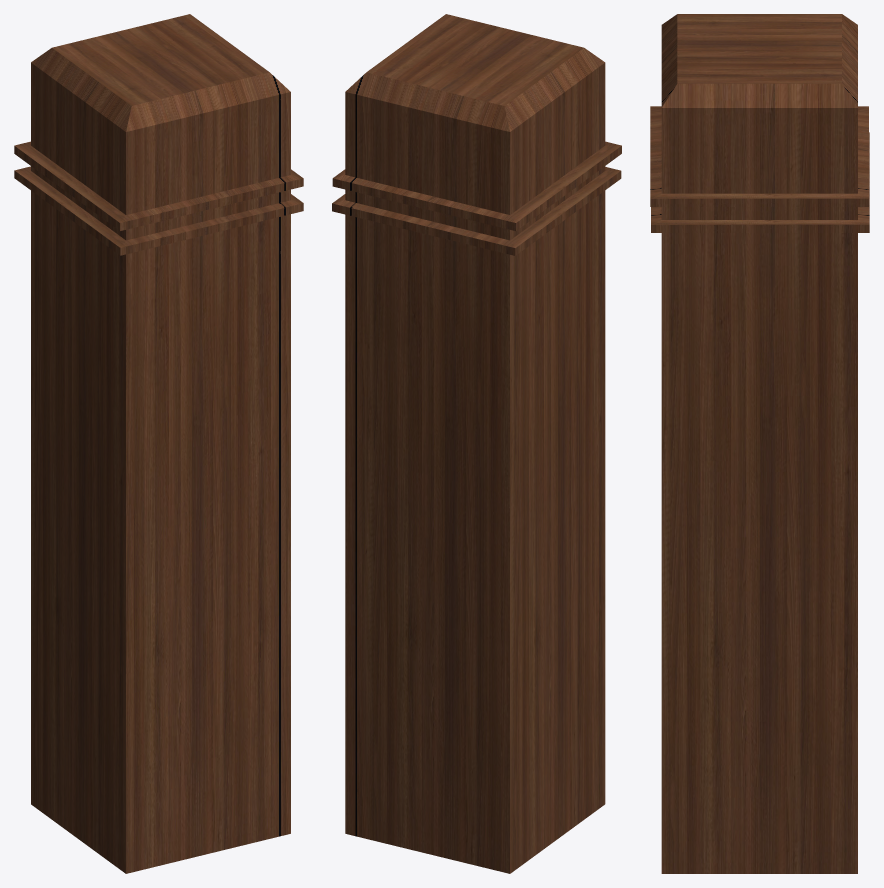
File: wall2.FBX
The picture shows the model from 3 angles, left to right: view 1: azimuth 30°, elevation 25°; view 2: azimuth 150°, elevation 25°; view 3: azimuth 270°, elevation 25°; orthographic projection. The views are drawn at different scales.
Visible parts, largest first — view 1: Box002; view 2: Box002; view 3: Box002.
Part boxes in pixels (x1=…): Box002: x1=14, y1=14, x2=303, y2=873; Box002: x1=332, y1=14, x2=621, y2=873; Box002: x1=650, y1=14, x2=869, y2=873.
Size of the model in its own units: 1.12 by 4.4 by 1.11.
